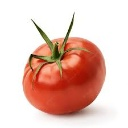tomato: (22, 36, 106, 113)
